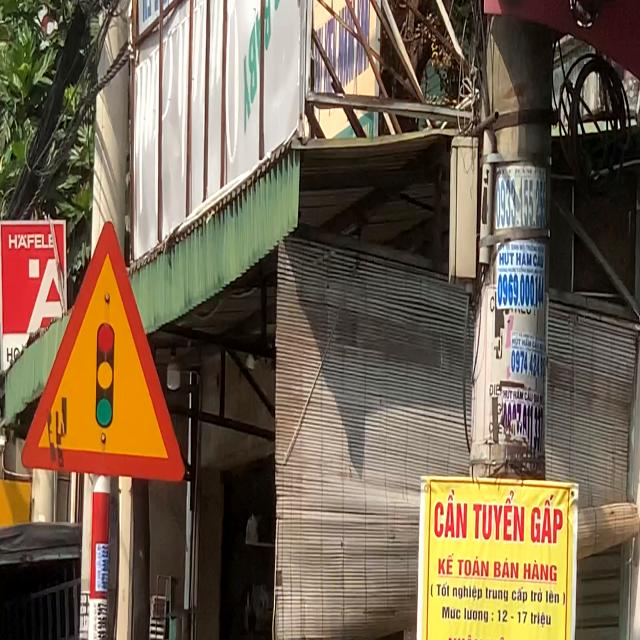W.209: (18, 218, 187, 485)
